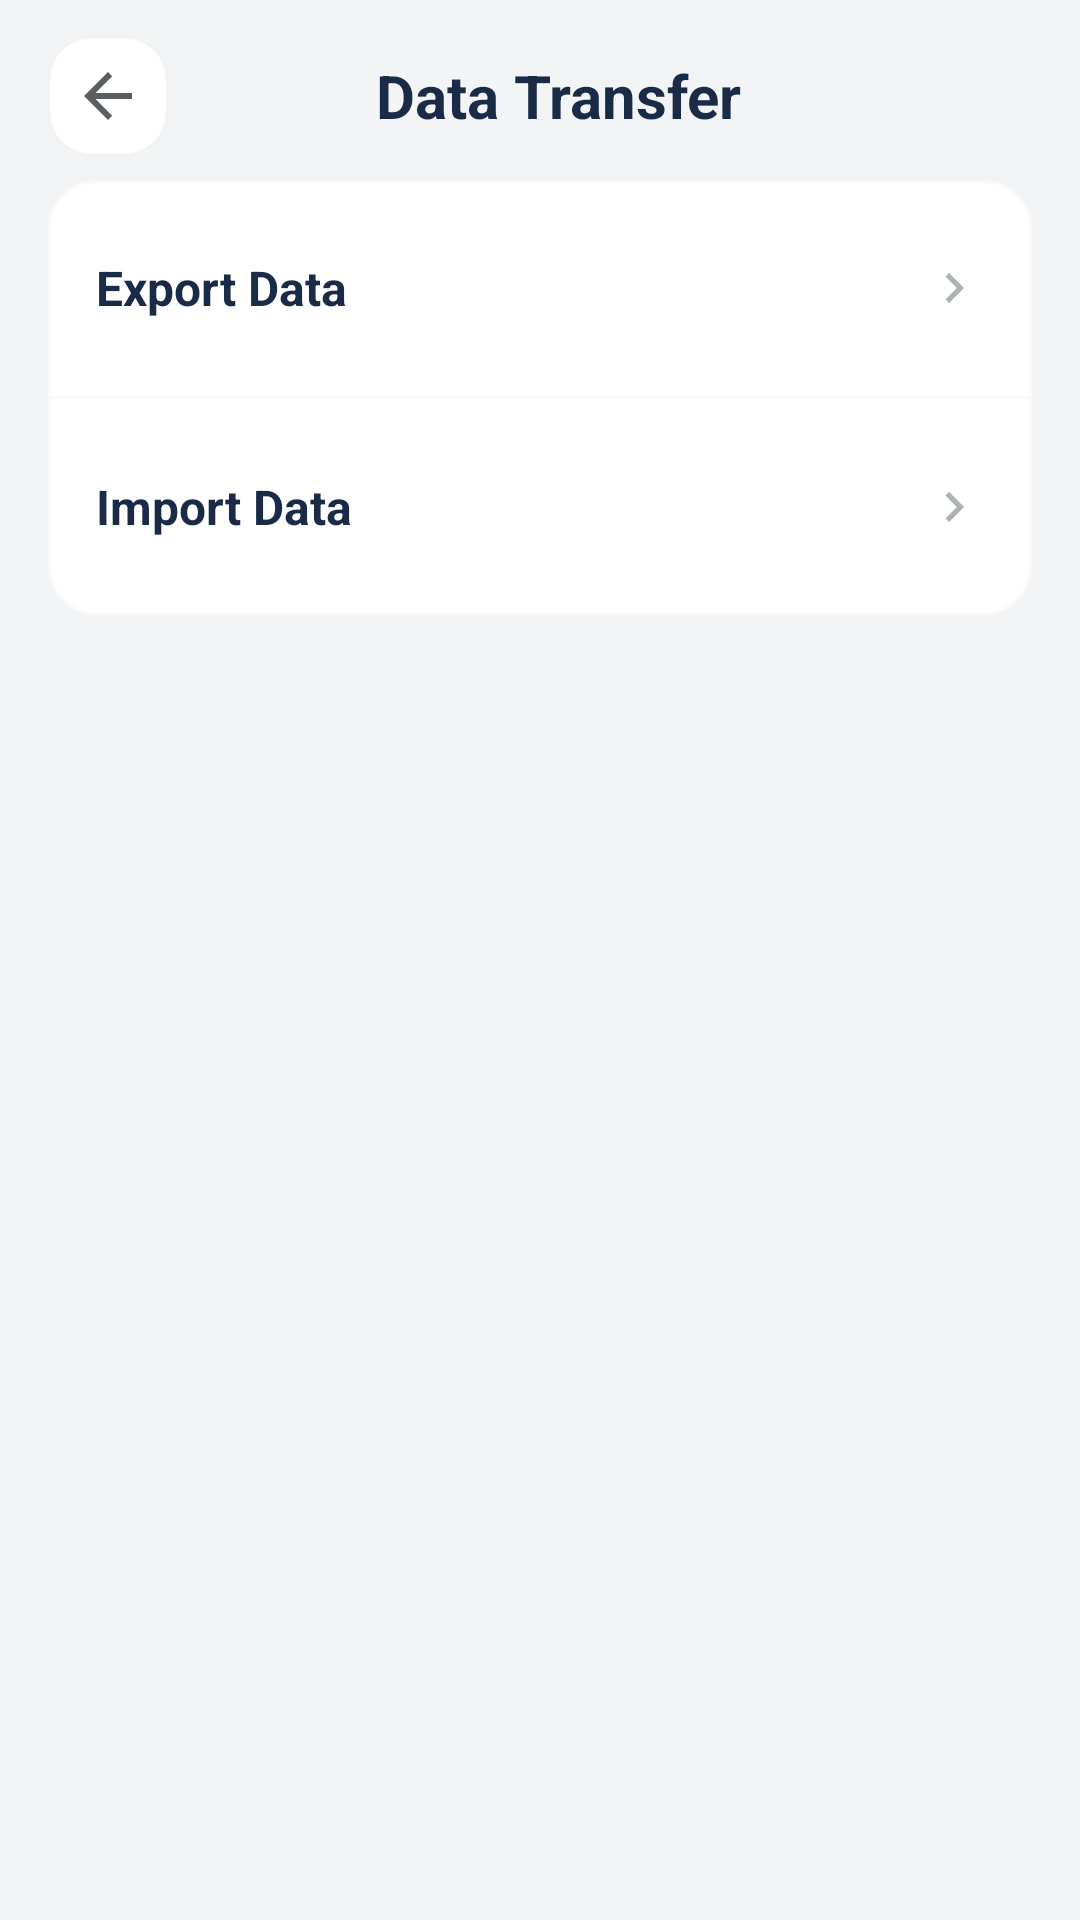

Screen size 1080px x 1920px. Icon name, then its box in pixels as detection(x1, y1, x2, y2):
Back: detection(51, 39, 165, 153)
editor chevron right: detection(945, 273, 964, 303), detection(945, 492, 964, 522)
